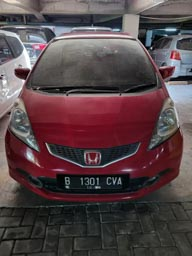plat: (59, 174, 124, 185)
